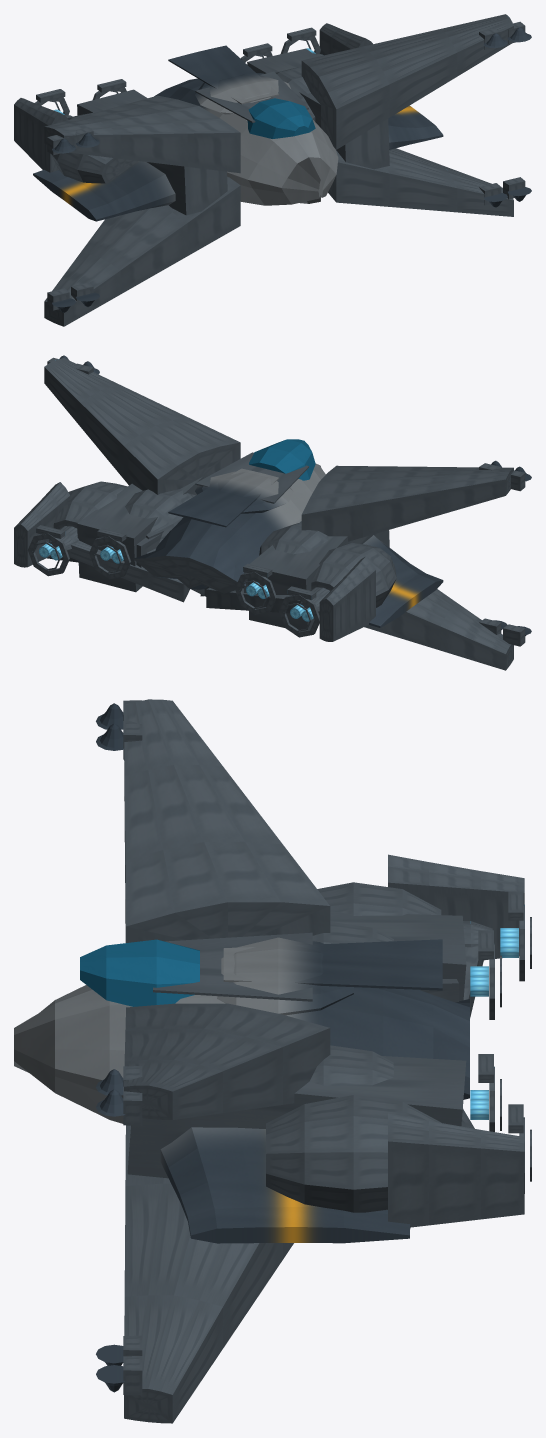
The model's file is spaceship_mothership.obj.
3 views of the same model, one above another, from view 1: azimuth 30°, elevation 25°; view 2: azimuth 150°, elevation 25°; view 3: azimuth 270°, elevation 25° (orthographic). The views are drawn at different scales.
Visible parts, largest first — view 1: spaceship_mothership; view 2: spaceship_mothership; view 3: spaceship_mothership.
Boxes of the visible parts, x1,y1,x2,y2 form: spaceship_mothership: (14, 14, 531, 326); spaceship_mothership: (14, 355, 531, 670); spaceship_mothership: (14, 699, 531, 1423).
Size of the model in its own units: 15.96 by 6.19 by 8.63.
Materials: 1 (1 with a texture image).
